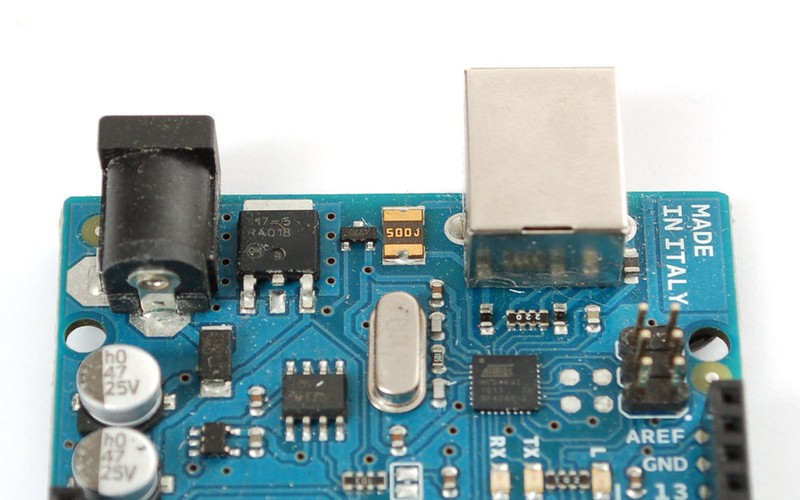Regulator: (44, 67, 725, 465)
